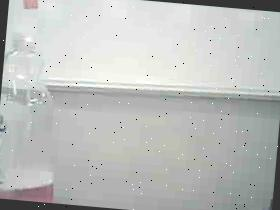hazard: (0, 0, 78, 203)
